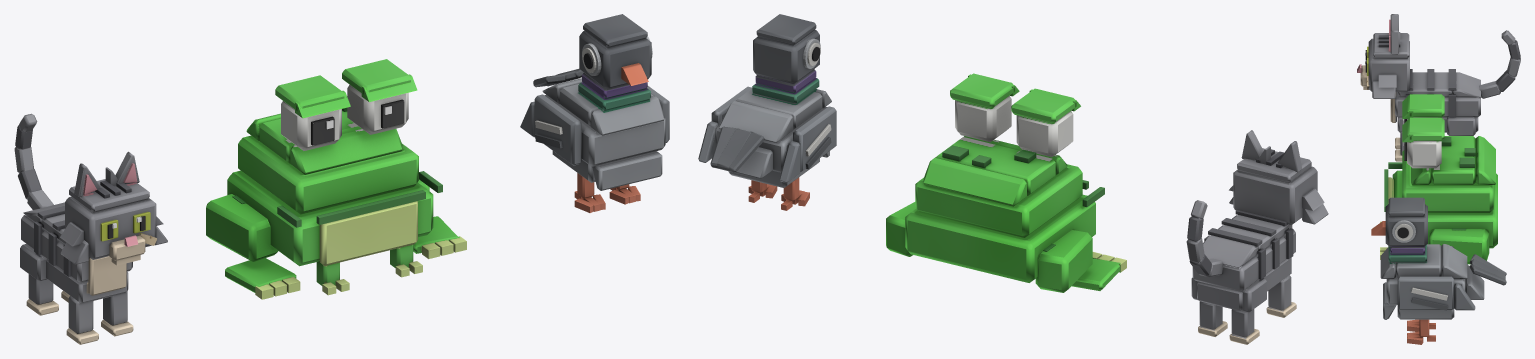
File: Lot00_Pilote.fbx
The picture shows the model from 3 angles, left to right: view 1: azimuth 30°, elevation 25°; view 2: azimuth 150°, elevation 25°; view 3: azimuth 270°, elevation 25°; orthographic projection. The views are drawn at different scales.
Parts seen in each view (by area): view 1: GrenouilleGlobuleuse__Body, PigeonVilles__Body, GrenouilleGlobuleuse__Head, ChatRuelle__Head, GrenouilleGlobuleuse__LegBR, ChatRuelle__Body, PigeonVilles__Head, PigeonVilles__WingR, ChatRuelle__Tail, ChatRuelle__LegBR, GrenouilleGlobuleuse__LegBL, ChatRuelle__LegFR (+2 smaller); view 2: GrenouilleGlobuleuse__Body, GrenouilleGlobuleuse__Head, PigeonVilles__Body, ChatRuelle__Body, ChatRuelle__Head, PigeonVilles__Head, GrenouilleGlobuleuse__LegBR, PigeonVilles__WingR, PigeonVilles__Tail, ChatRuelle__LegBR, ChatRuelle__Tail, GrenouilleGlobuleuse__LegBL (+4 smaller); view 3: GrenouilleGlobuleuse__Body, PigeonVilles__Body, ChatRuelle__Head, ChatRuelle__Body, GrenouilleGlobuleuse__Head, PigeonVilles__WingL, PigeonVilles__Head, GrenouilleGlobuleuse__LegBL, ChatRuelle__Tail, PigeonVilles__Tail, ChatRuelle__LegBL, PigeonVilles__LegL (+2 smaller).
Part boxes in pixels (left/top/right/bottom): GrenouilleGlobuleuse__Body: left=227, top=107, right=442, bottom=295; PigeonVilles__Body: left=542, top=73, right=665, bottom=190; GrenouilleGlobuleuse__Head: left=275, top=59, right=417, bottom=150; ChatRuelle__Head: left=60, top=151, right=167, bottom=265; GrenouilleGlobuleuse__LegBR: left=206, top=194, right=300, bottom=299; ChatRuelle__Body: left=21, top=202, right=132, bottom=303; PigeonVilles__Head: left=579, top=14, right=652, bottom=89; PigeonVilles__WingR: left=520, top=94, right=581, bottom=165; ChatRuelle__Tail: left=14, top=113, right=53, bottom=209; ChatRuelle__LegBR: left=20, top=244, right=58, bottom=315; GrenouilleGlobuleuse__LegBL: left=413, top=179, right=466, bottom=258; ChatRuelle__LegFR: left=66, top=296, right=98, bottom=344; GrenouilleGlobuleuse__Body: left=905, top=136, right=1104, bottom=282; GrenouilleGlobuleuse__Head: left=950, top=73, right=1080, bottom=157; PigeonVilles__Body: left=714, top=69, right=831, bottom=187; ChatRuelle__Body: left=1192, top=210, right=1295, bottom=310; ChatRuelle__Head: left=1229, top=130, right=1328, bottom=224; PigeonVilles__Head: left=753, top=14, right=820, bottom=83; GrenouilleGlobuleuse__LegBR: left=1035, top=230, right=1126, bottom=292; PigeonVilles__WingR: left=779, top=106, right=836, bottom=182; PigeonVilles__Tail: left=710, top=126, right=764, bottom=172; ChatRuelle__LegBR: left=1229, top=278, right=1266, bottom=344; ChatRuelle__Tail: left=1186, top=200, right=1223, bottom=277; GrenouilleGlobuleuse__LegBL: left=886, top=202, right=916, bottom=256; GrenouilleGlobuleuse__Body: left=1380, top=136, right=1497, bottom=259; PigeonVilles__Body: left=1380, top=244, right=1484, bottom=319; ChatRuelle__Head: left=1357, top=14, right=1409, bottom=98; ChatRuelle__Body: left=1390, top=69, right=1480, bottom=132; GrenouilleGlobuleuse__Head: left=1402, top=94, right=1444, bottom=168; PigeonVilles__WingL: left=1397, top=276, right=1475, bottom=310; PigeonVilles__Head: left=1371, top=197, right=1427, bottom=246; GrenouilleGlobuleuse__LegBL: left=1429, top=229, right=1489, bottom=264; ChatRuelle__Tail: left=1479, top=30, right=1520, bottom=98; PigeonVilles__Tail: left=1469, top=254, right=1506, bottom=285; ChatRuelle__LegBL: left=1447, top=116, right=1475, bottom=135; PigeonVilles__LegL: left=1407, top=319, right=1435, bottom=344.
Bounding box in the file's own units: 21.43 × 6 × 6.85.
Materials: 3 (3 with a texture image).
